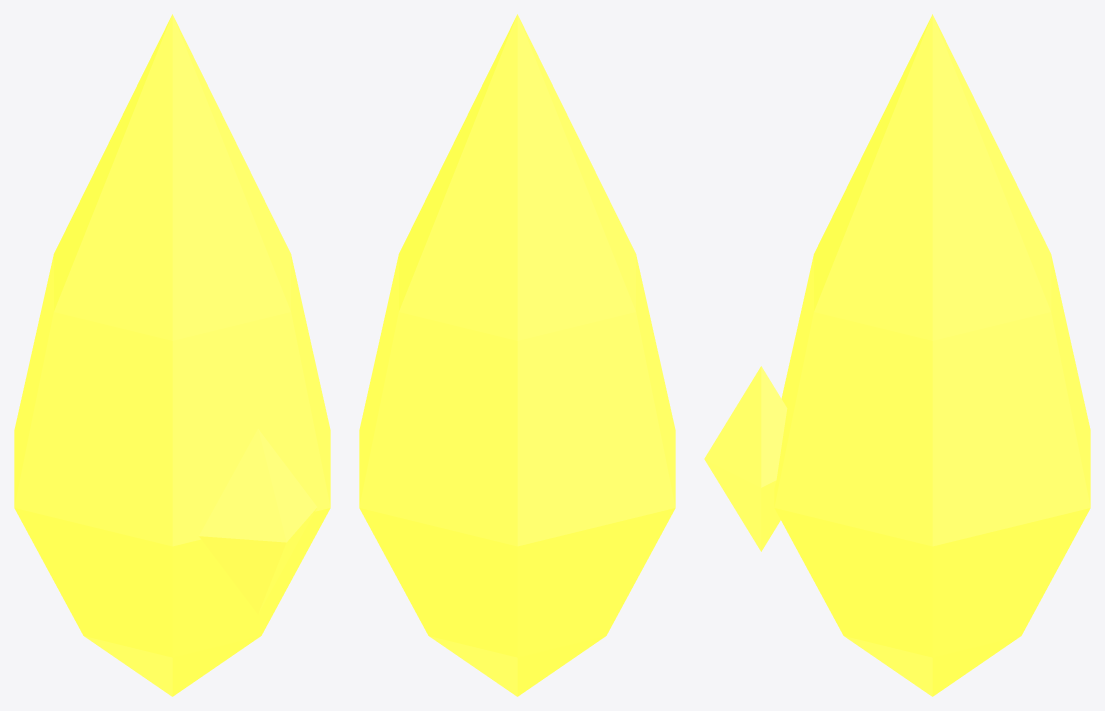
The model's file is acid_drop.glb.
3 views of the same model, side by side, from view 1: azimuth 30°, elevation 25°; view 2: azimuth 150°, elevation 25°; view 3: azimuth 270°, elevation 25° (orthographic).
Parts seen in each view (by area): view 1: drop, core; view 2: drop; view 3: drop, core.
Boxes of the visible parts, bbox=[...] form: drop: bbox=[14, 14, 330, 696]; core: bbox=[199, 429, 317, 614]; drop: bbox=[359, 14, 675, 696]; drop: bbox=[774, 14, 1090, 696]; core: bbox=[704, 366, 787, 551].
Bounding box in the file's own units: 3.2 × 6.6 × 3.39.
